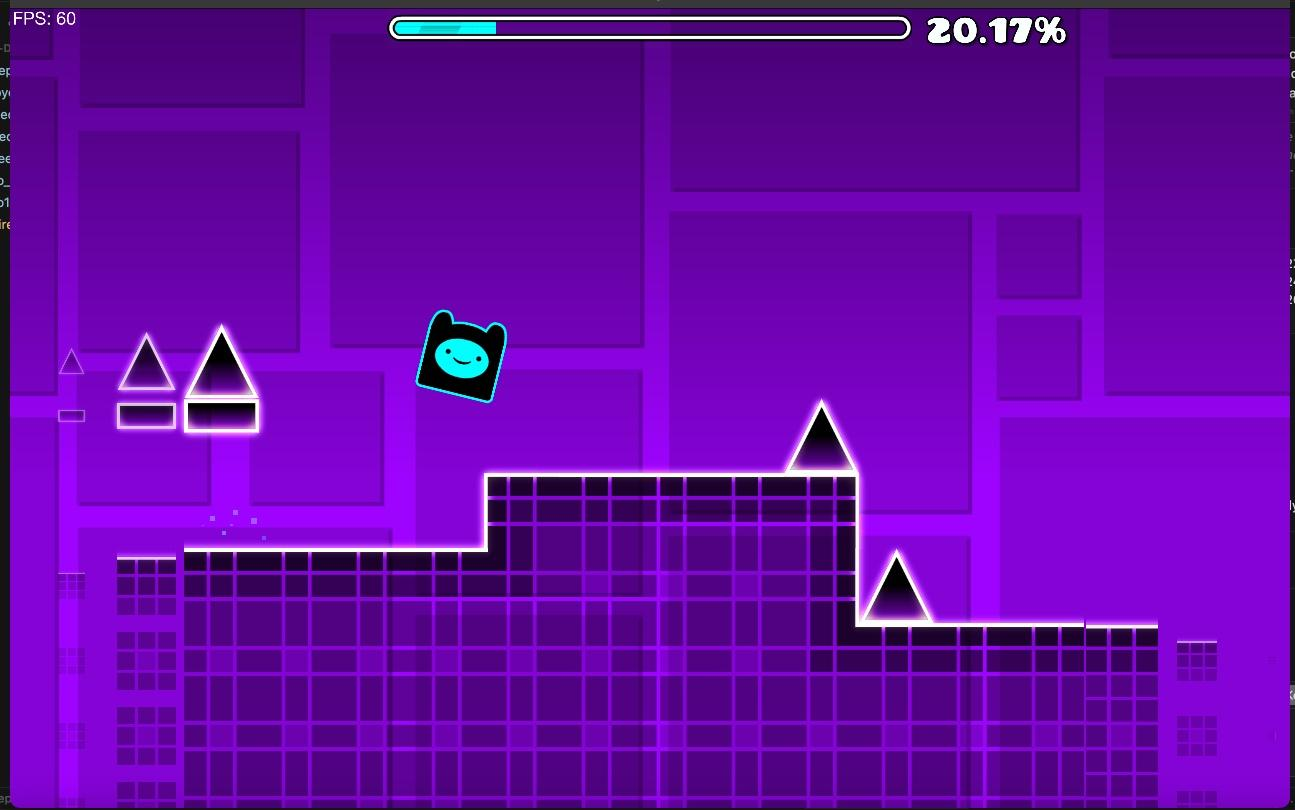block: (487, 477, 856, 805), (187, 550, 487, 802), (857, 627, 1159, 806)
player: (419, 311, 506, 402)
spike: (186, 327, 255, 398), (865, 552, 930, 622), (793, 407, 853, 469)
